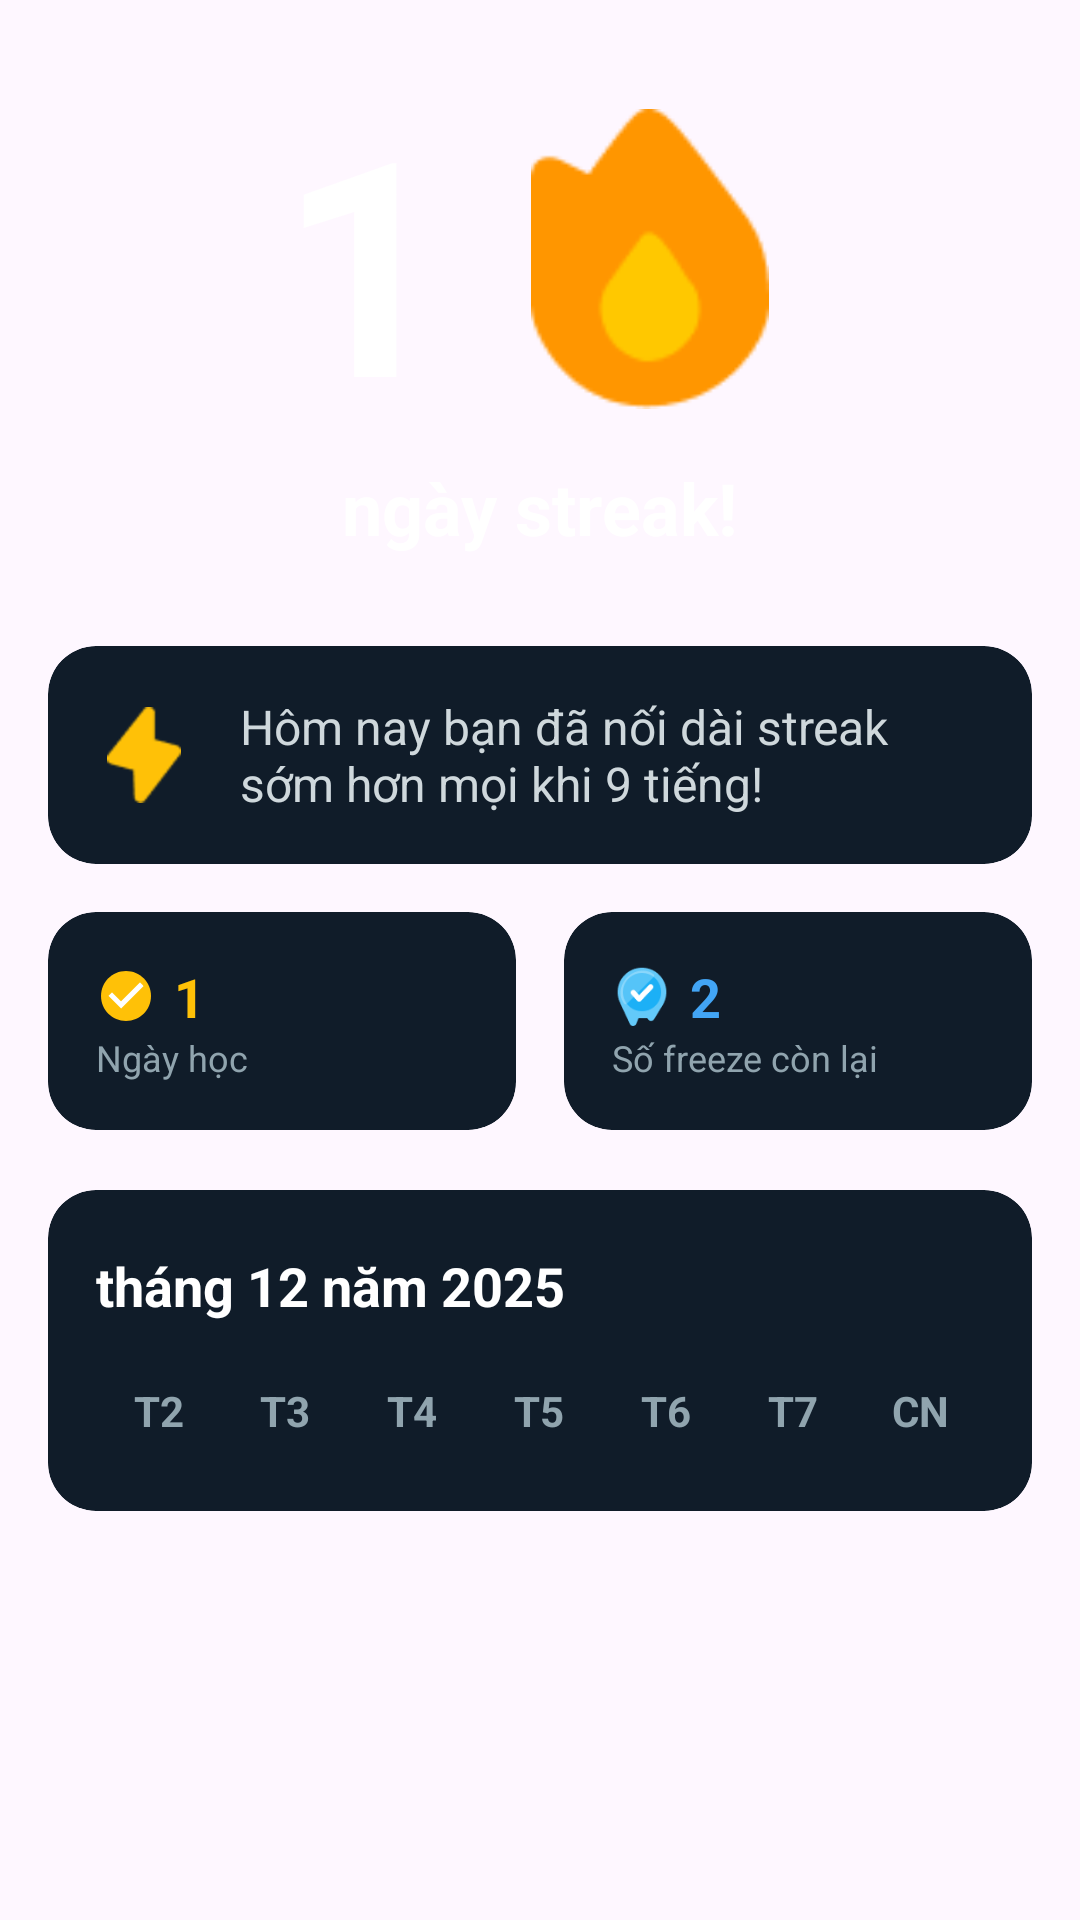

Locate icon controls on the screen. Image size 1080px×1920px, boxes as (x1, y1, x2, y2).
bolt: (107, 707, 181, 803)
check: (101, 971, 151, 1021)
fire: (531, 109, 769, 409)
